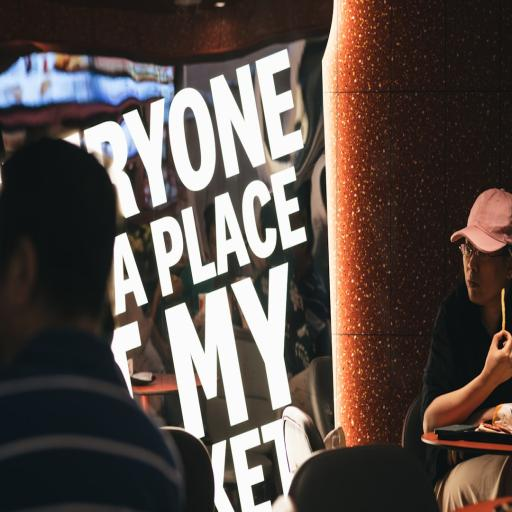face: (458, 233, 499, 305)
